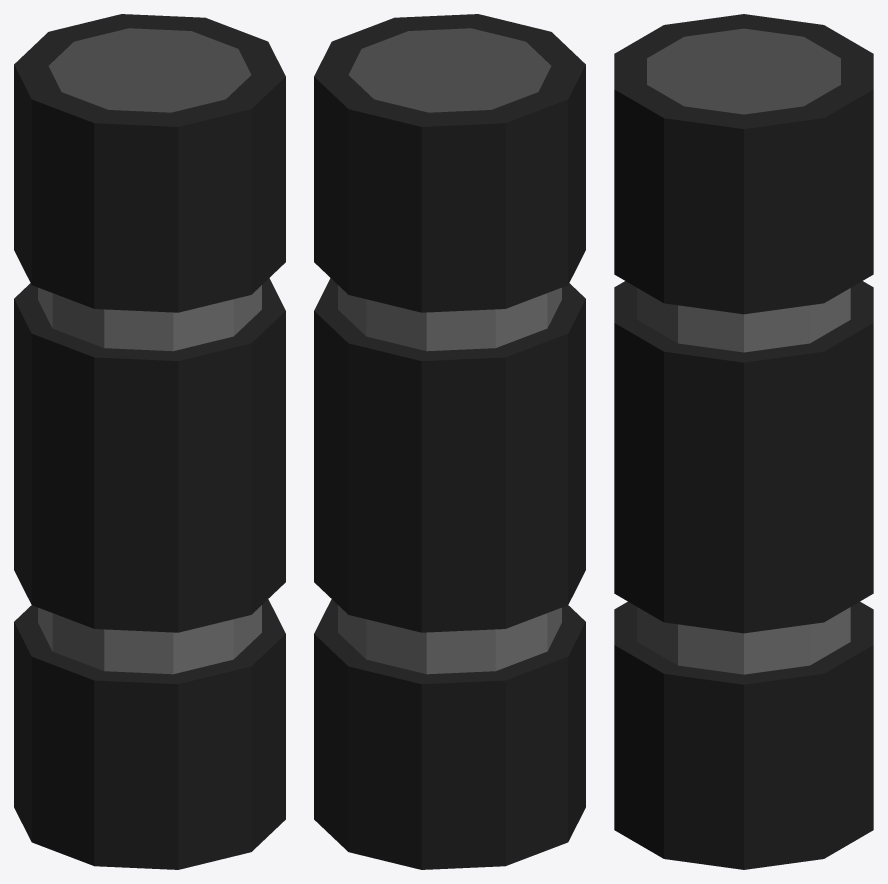
The model's file is WallPillar.fbx.
The picture shows the model from 3 angles, left to right: view 1: azimuth 30°, elevation 25°; view 2: azimuth 150°, elevation 25°; view 3: azimuth 270°, elevation 25°; orthographic projection.
Visible parts, largest first — view 1: Pillar; view 2: Pillar; view 3: Pillar.
Part boxes in pixels (<box>): Pillar: <box>14,14,285,869</box>; Pillar: <box>314,14,585,869</box>; Pillar: <box>614,14,873,869</box>.
Bounding box in the file's own units: 100 × 300 × 95.11.
Materials: 1 (1 with a texture image).
